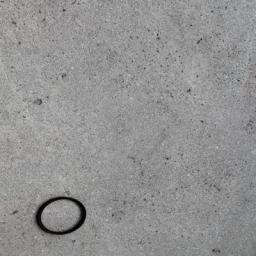FOD: (35, 195, 89, 237)
